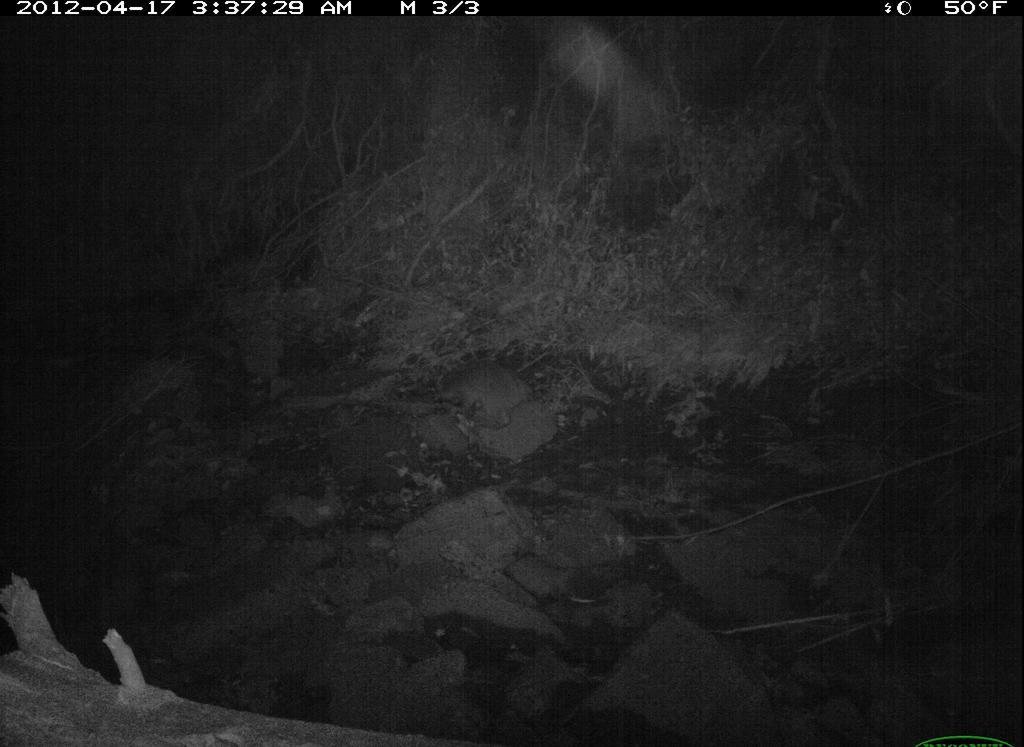raccoon: (437, 344, 534, 429)
